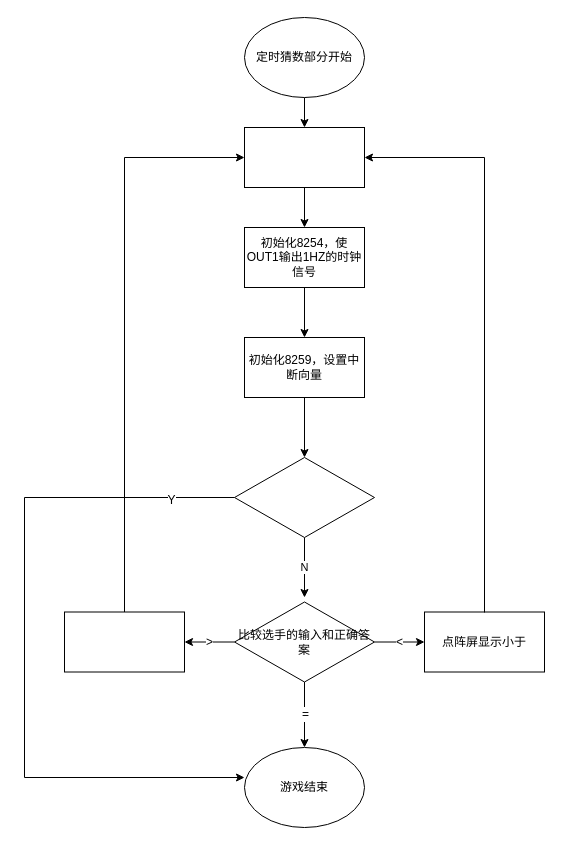
Image size: 562x845. Some labels were removed from this diagram. The centre of each missing label's shape, as x and y in pixels:
"时间是否截止？" belongs at [304,497].
"点阵屏显示大于" belongs at [124,641].
"获得抢答选手编号" belongs at [304,157].
